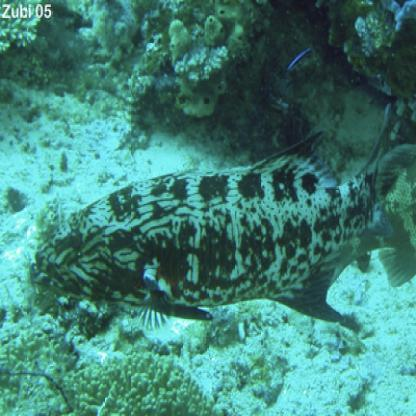grouper: (28, 98, 399, 327)
